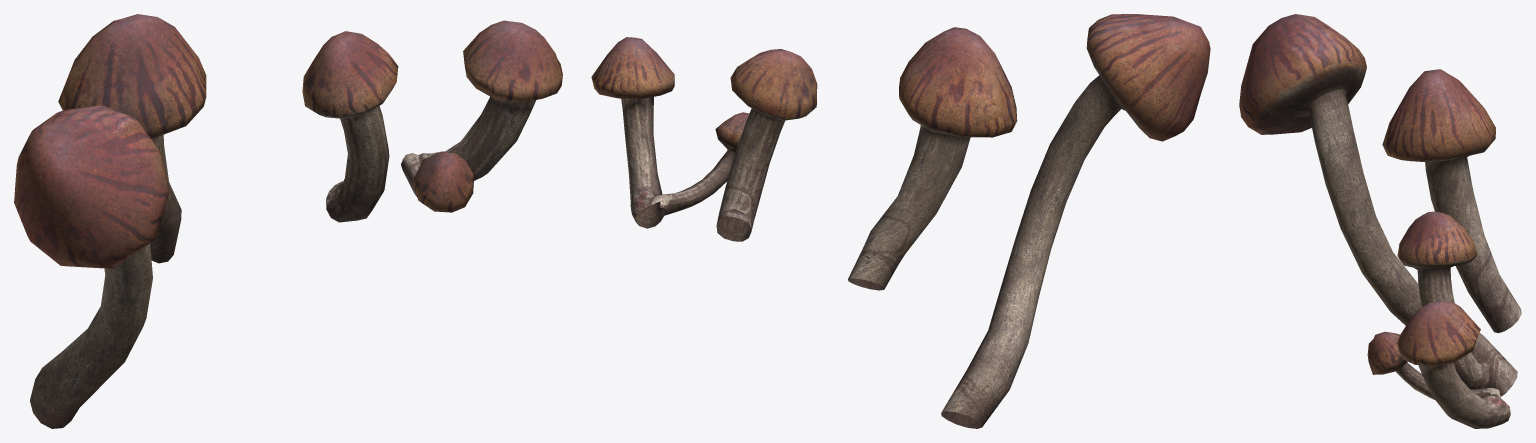
Rendered from sm_dwarf_mushroom_chest_add.gltf.
3 renders of one model, left to right at view 1: azimuth 30°, elevation 25°; view 2: azimuth 150°, elevation 25°; view 3: azimuth 270°, elevation 25°, orthographic. The views are drawn at different scales.
Parts seen in each view (by area): view 1: sm_dwarf_mushroom_chest_add; view 2: sm_dwarf_mushroom_chest_add; view 3: sm_dwarf_mushroom_chest_add.
Part boxes in pixels (x1=…): sm_dwarf_mushroom_chest_add: x1=14, y1=14, x2=562, y2=428; sm_dwarf_mushroom_chest_add: x1=591, y1=14, x2=1210, y2=428; sm_dwarf_mushroom_chest_add: x1=1239, y1=14, x2=1521, y2=428.
Bounding box in the file's own units: 28.58 × 18.91 × 14.13.
